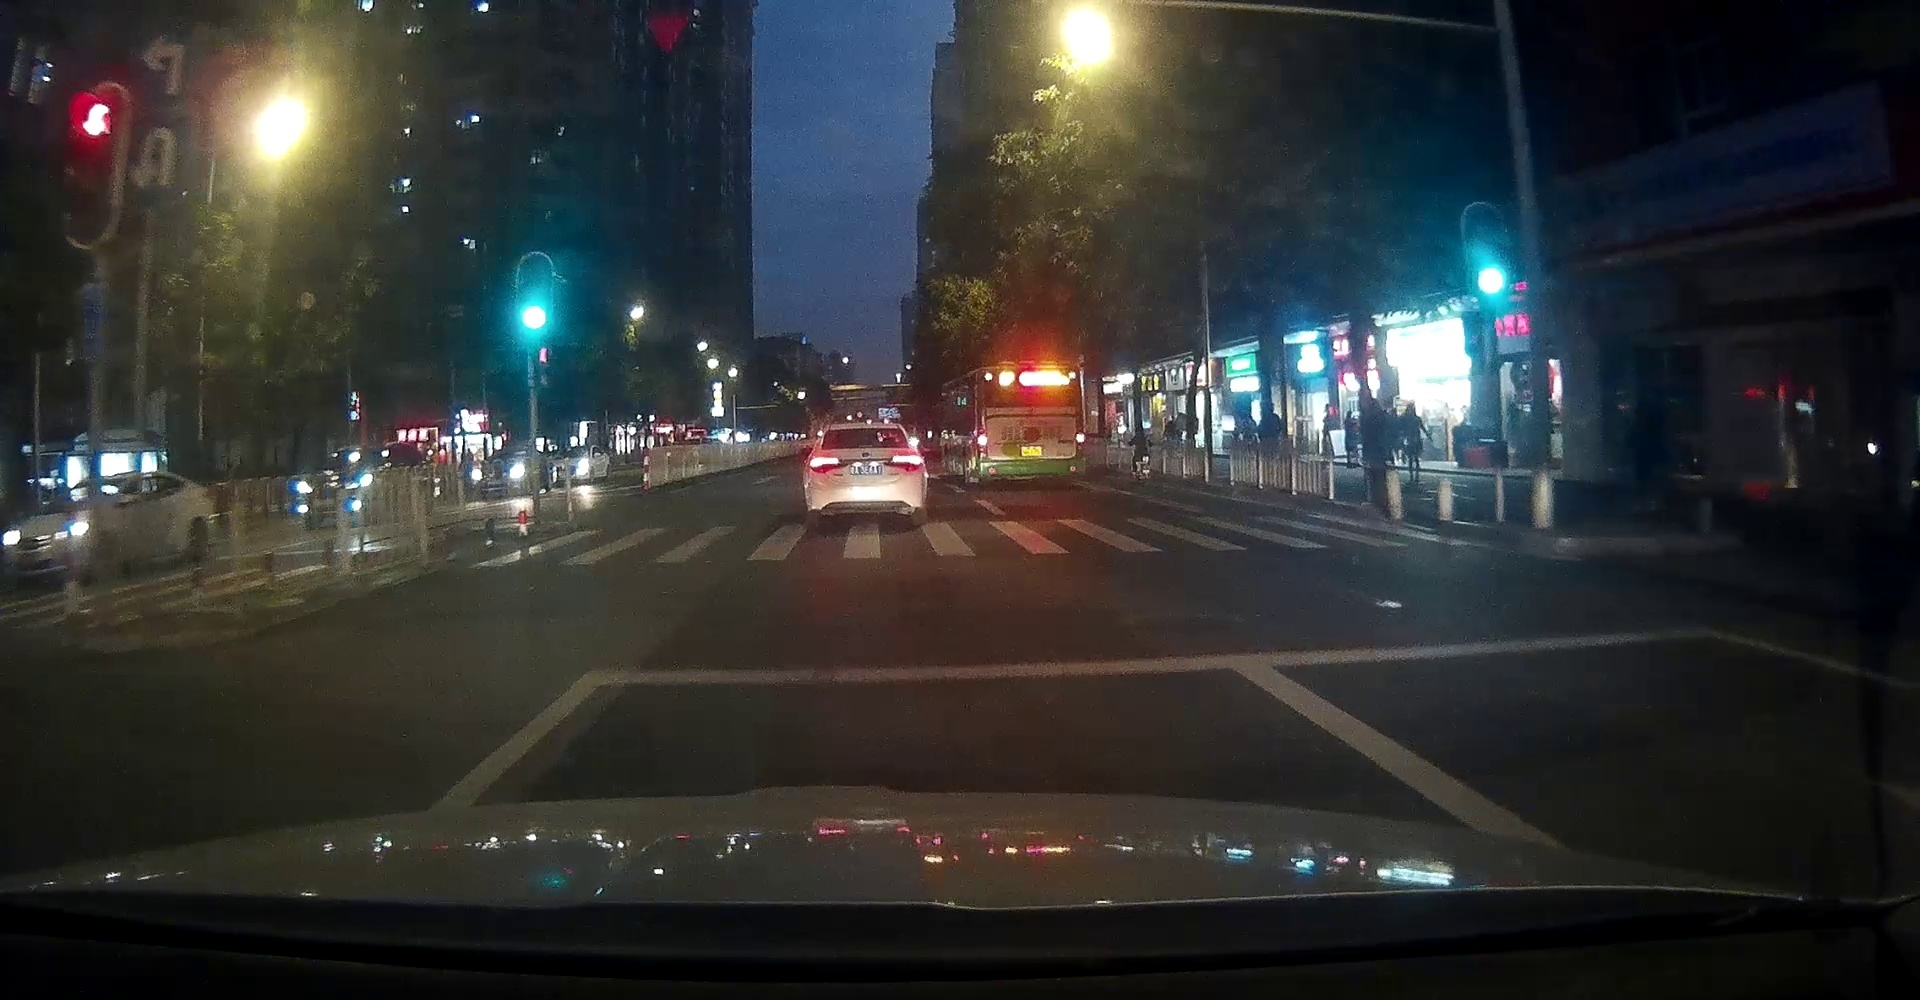L_light: (809, 456, 847, 473), (977, 428, 988, 453)
R_light: (888, 454, 924, 471), (1076, 426, 1084, 452)
T_light: (1027, 365, 1044, 371), (858, 445, 872, 448)
night-no: (977, 363, 1086, 489), (804, 423, 927, 528)
